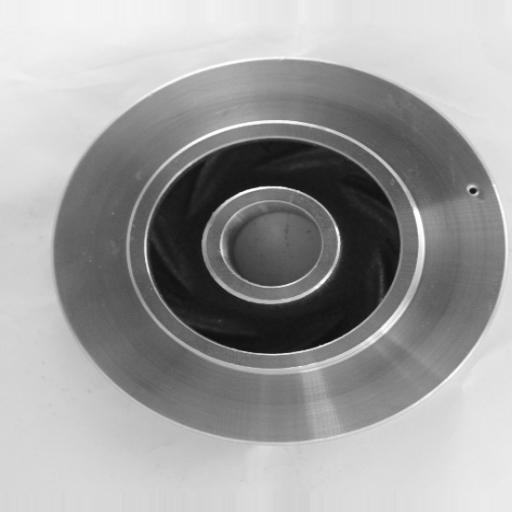pit: (457, 179, 487, 203)
unpolished_casting: (48, 54, 506, 448)
